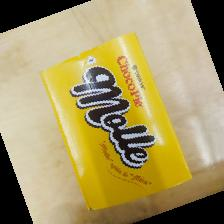Molle: (39, 31, 194, 211)
